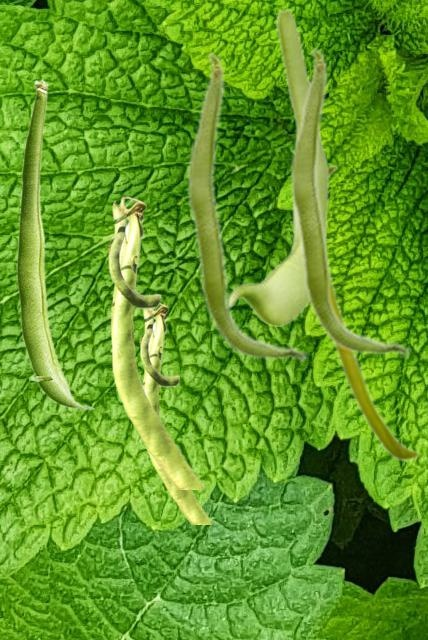french_bean: (185, 51, 308, 362), (288, 46, 411, 357), (229, 7, 328, 325), (107, 196, 203, 488), (329, 163, 419, 461), (16, 79, 95, 409), (139, 303, 211, 523)
